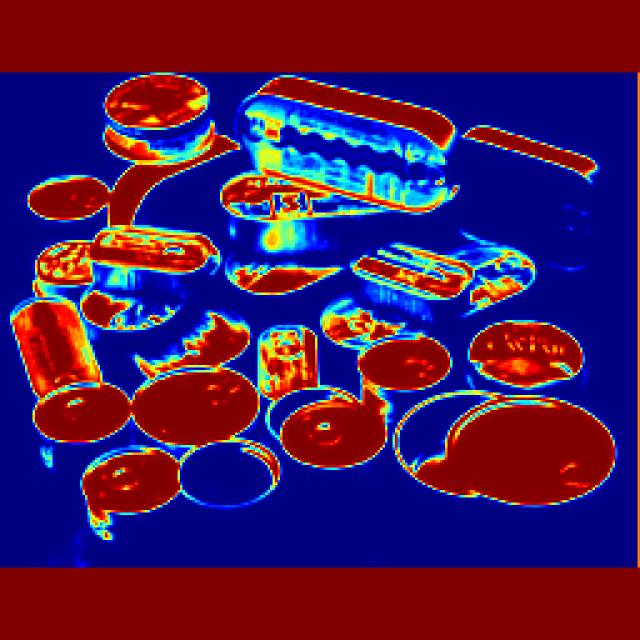Aluminium Food Cans: (32, 84, 606, 556)
